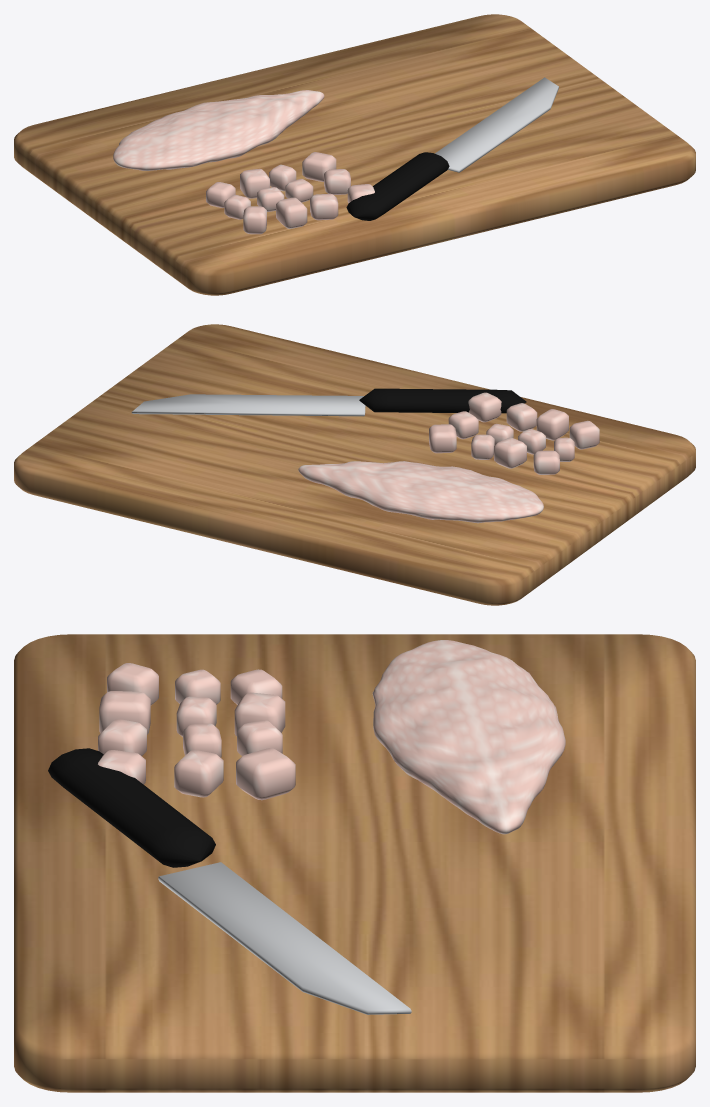
The model's file is paso-1.glb.
3 renders of one model, top to bottom at view 1: azimuth 30°, elevation 25°; view 2: azimuth 150°, elevation 25°; view 3: azimuth 270°, elevation 25°, orthographic. The views are drawn at different scales.
Visible parts, largest first — view 1: paso-1-0, paso-1-1, paso-1-14, paso-1-15, paso-1-11, paso-1-5, paso-1-12, paso-1-3, paso-1-10, paso-1-9, paso-1-2, paso-1-4 (+3 smaller); view 2: paso-1-0, paso-1-1, paso-1-14, paso-1-15, paso-1-3, paso-1-11, paso-1-13, paso-1-5, paso-1-12, paso-1-10, paso-1-9, paso-1-2 (+2 smaller); view 3: paso-1-0, paso-1-1, paso-1-14, paso-1-15, paso-1-5, paso-1-9, paso-1-11, paso-1-3, paso-1-12, paso-1-10, paso-1-4, paso-1-6 (+4 smaller).
Part boxes in pixels (<box>): paso-1-0: <box>14,14,695,295</box>; paso-1-1: <box>113,90,324,170</box>; paso-1-14: <box>435,77,558,172</box>; paso-1-15: <box>346,152,449,220</box>; paso-1-11: <box>276,197,307,228</box>; paso-1-5: <box>302,152,336,181</box>; paso-1-12: <box>310,193,338,220</box>; paso-1-3: <box>240,168,269,198</box>; paso-1-10: <box>243,206,266,234</box>; paso-1-9: <box>324,169,350,194</box>; paso-1-2: <box>206,182,235,207</box>; paso-1-4: <box>269,164,296,191</box>; paso-1-0: <box>14,324,695,605</box>; paso-1-1: <box>298,461,543,523</box>; paso-1-14: <box>131,394,365,416</box>; paso-1-15: <box>359,388,526,413</box>; paso-1-3: <box>494,437,526,468</box>; paso-1-11: <box>536,409,568,440</box>; paso-1-13: <box>468,392,501,422</box>; paso-1-5: <box>429,424,456,453</box>; paso-1-12: <box>506,403,537,431</box>; paso-1-10: <box>569,420,599,449</box>; paso-1-9: <box>448,411,478,439</box>; paso-1-2: <box>533,450,559,474</box>; paso-1-0: <box>14,634,695,1092</box>; paso-1-1: <box>372,640,565,834</box>; paso-1-14: <box>158,862,411,1014</box>; paso-1-15: <box>48,748,215,867</box>; paso-1-5: <box>236,748,295,800</box>; paso-1-9: <box>174,750,223,797</box>; paso-1-11: <box>99,691,150,734</box>; paso-1-3: <box>234,692,285,736</box>; paso-1-12: <box>98,719,146,756</box>; paso-1-10: <box>107,663,158,705</box>; paso-1-4: <box>237,720,282,756</box>; paso-1-6: <box>175,669,220,704</box>.
Bounding box in the file's own units: 0.38 × 0.0369 × 0.26.
4 materials, 1 textured.
